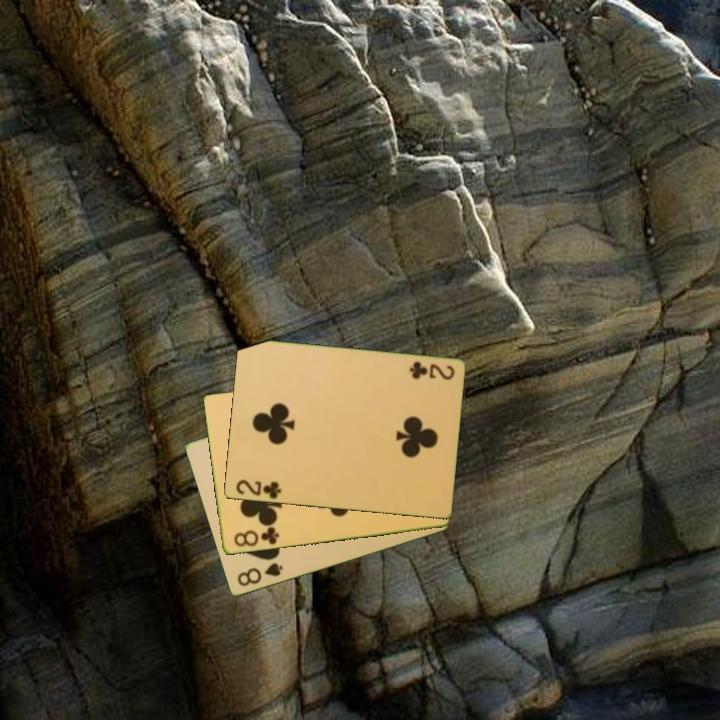2c: (232, 477, 284, 502), (406, 358, 457, 383)
8c: (230, 523, 282, 550)
8s: (233, 559, 286, 590)
